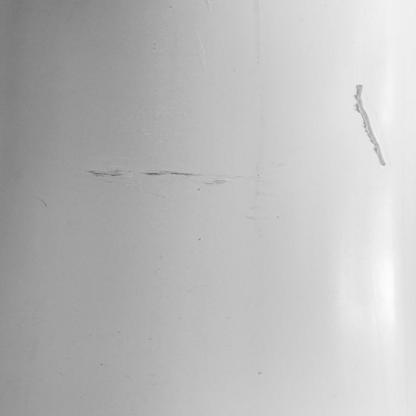sunshang: (90, 160, 235, 192), (351, 82, 394, 167)
